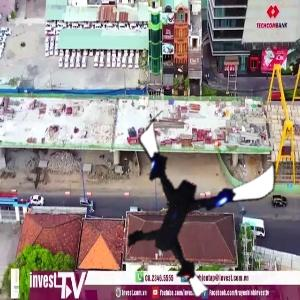drone: (103, 118, 266, 281)
